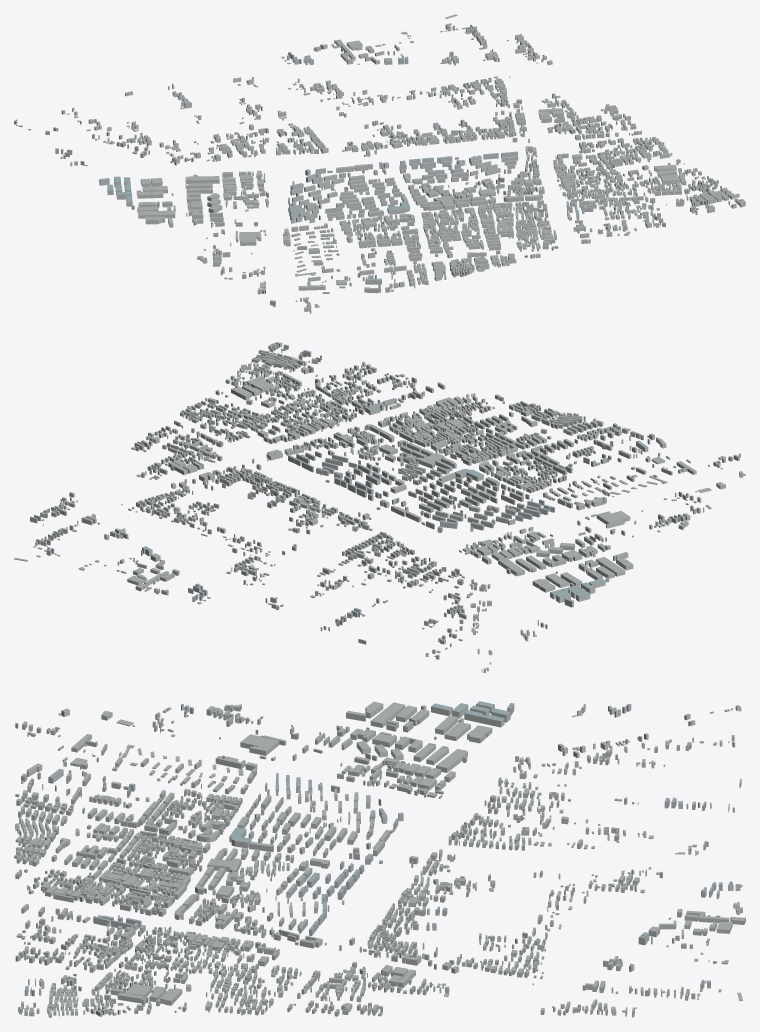
The model's file is far.glb.
3 views of the same model, one above another, from view 1: azimuth 30°, elevation 25°; view 2: azimuth 150°, elevation 25°; view 3: azimuth 270°, elevation 25° (orthographic). The views are drawn at different scales.
Size of the model in its own units: 2116 by 23.95 by 2105.
